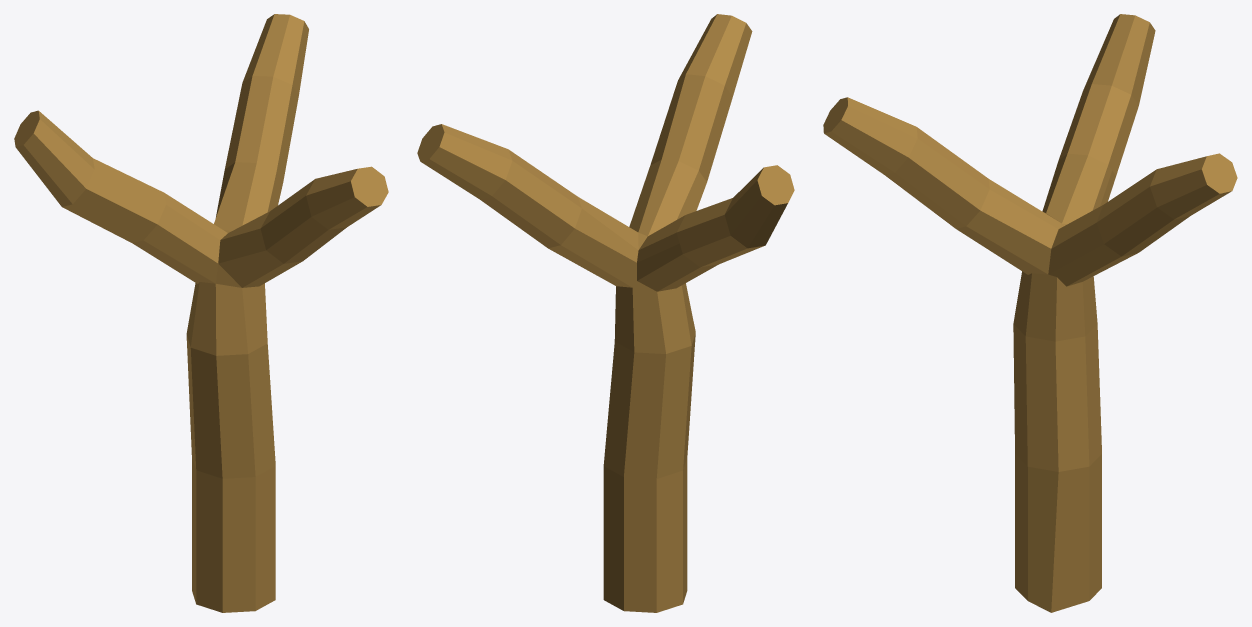
The model's file is Tree02Trunk.fbx.
The picture shows the model from 3 angles, left to right: view 1: azimuth 30°, elevation 25°; view 2: azimuth 150°, elevation 25°; view 3: azimuth 270°, elevation 25°; orthographic projection.
Parts seen in each view (by area): view 1: Tree02Trunk; view 2: Tree02Trunk; view 3: Tree02Trunk.
Boxes of the visible parts, x1,y1,x2,y2 form: Tree02Trunk: (14, 14, 388, 612); Tree02Trunk: (417, 14, 794, 612); Tree02Trunk: (823, 14, 1237, 612).
Size of the model in its own units: 1.72 by 2.52 by 1.86.
